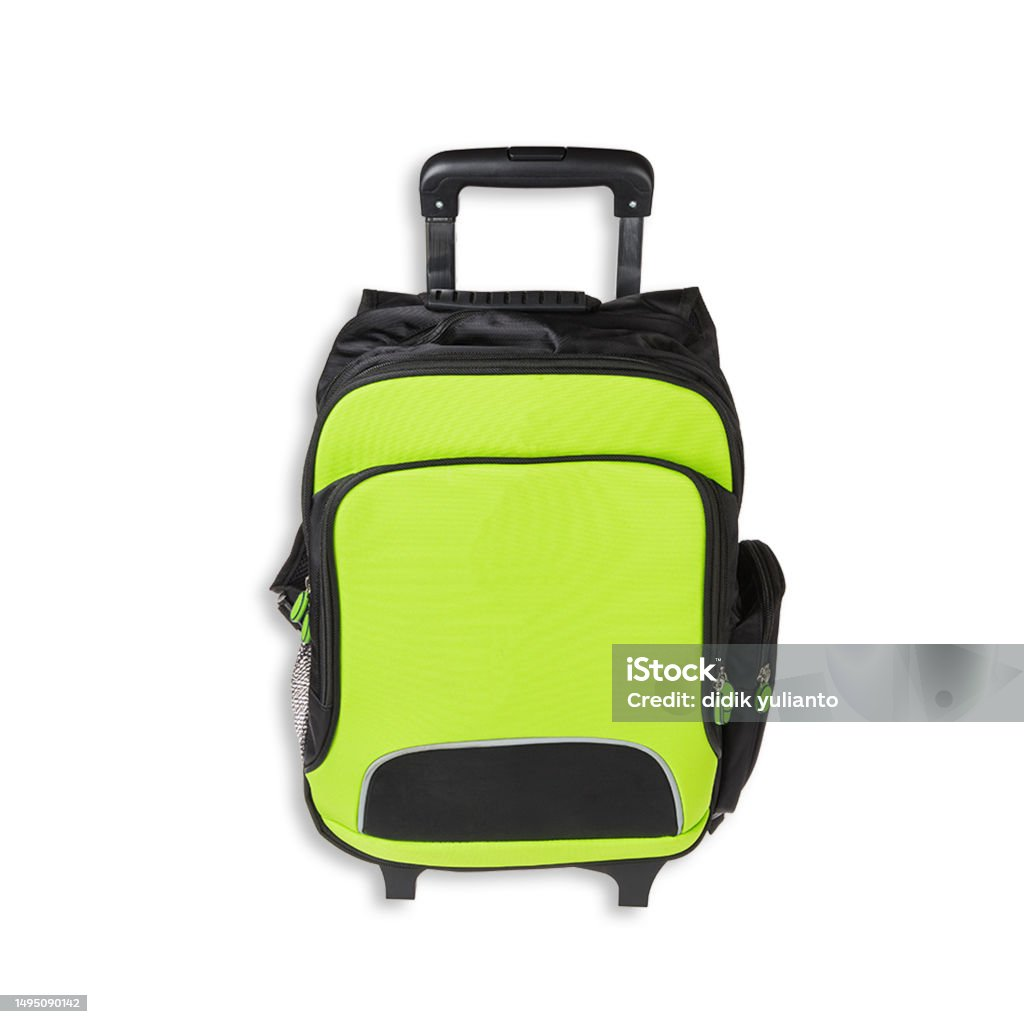Bag: (268, 135, 780, 914)
Handle: (410, 136, 672, 316)
